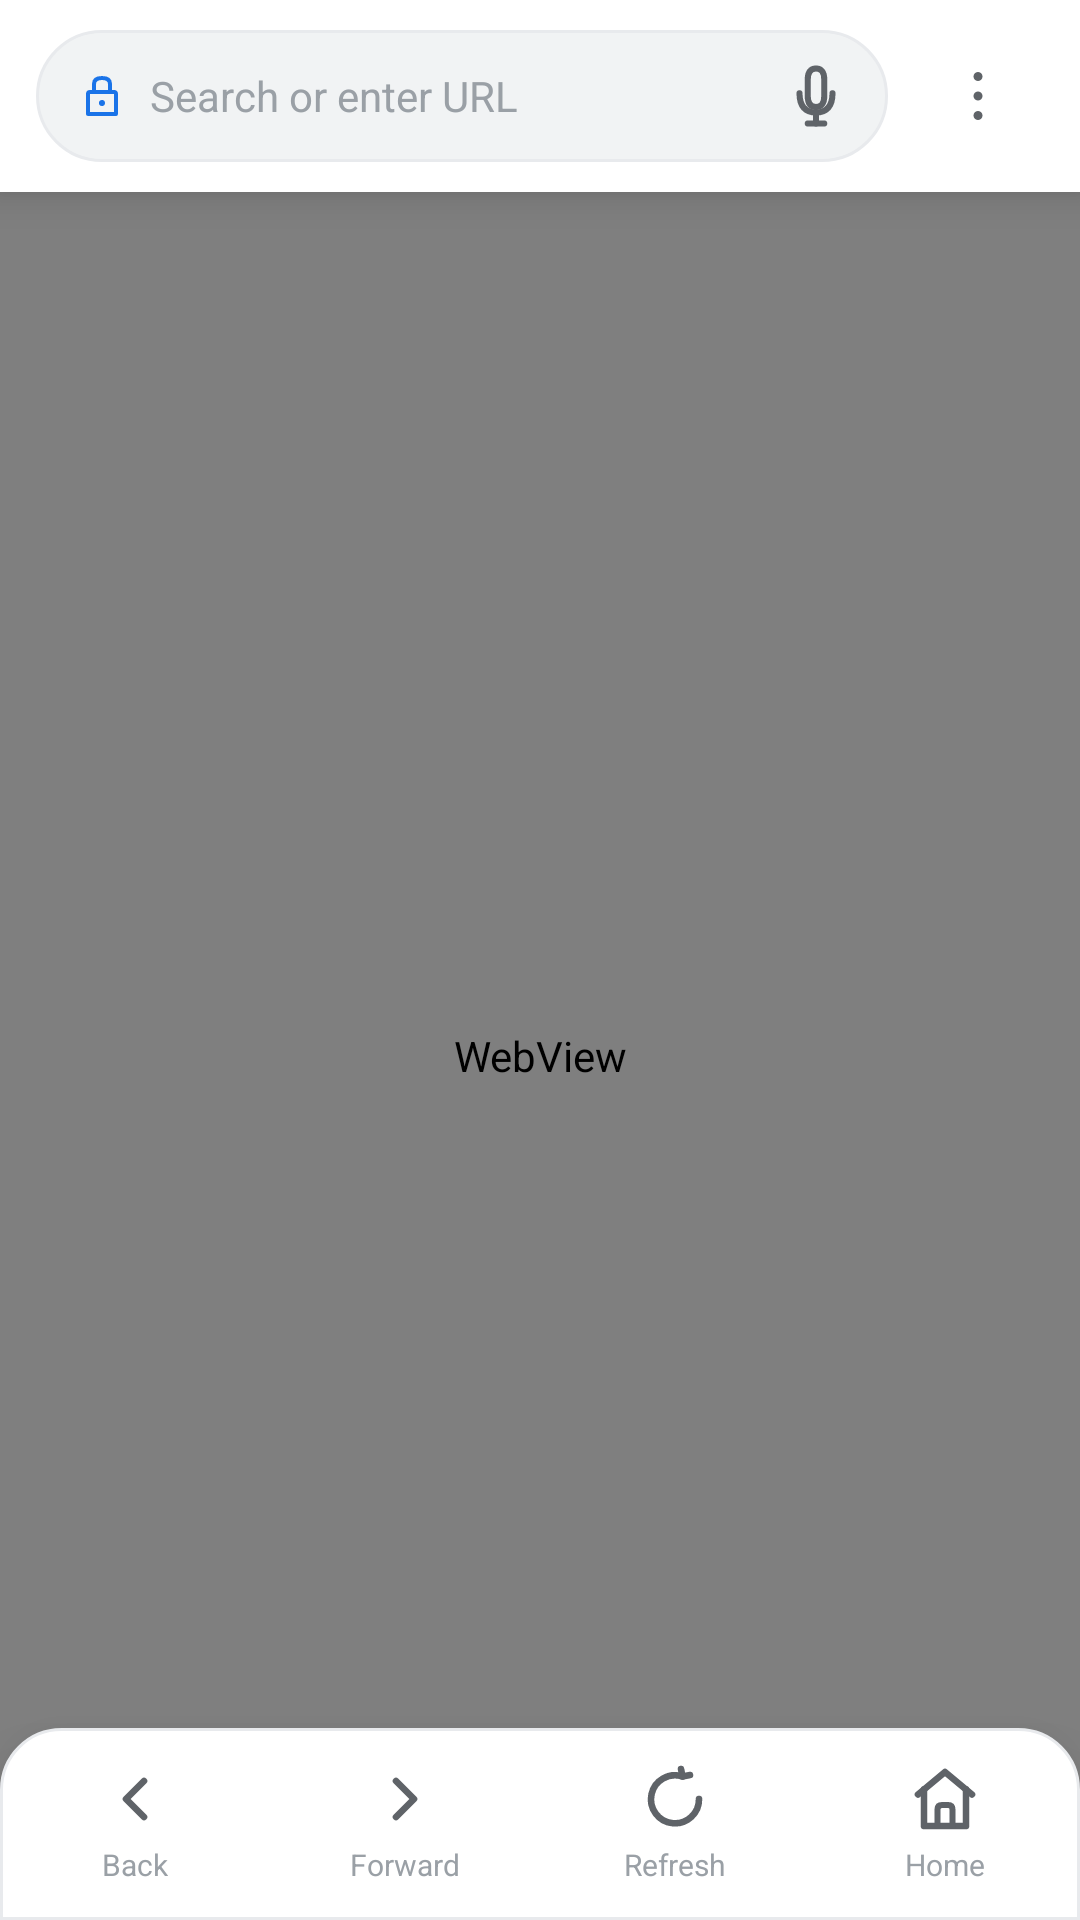

Point at icon controls on the screen. Image size 1080 × 1920, points as point (x, y).
dots: point (978, 96)
lock: point (102, 96)
mic: point (816, 96)
